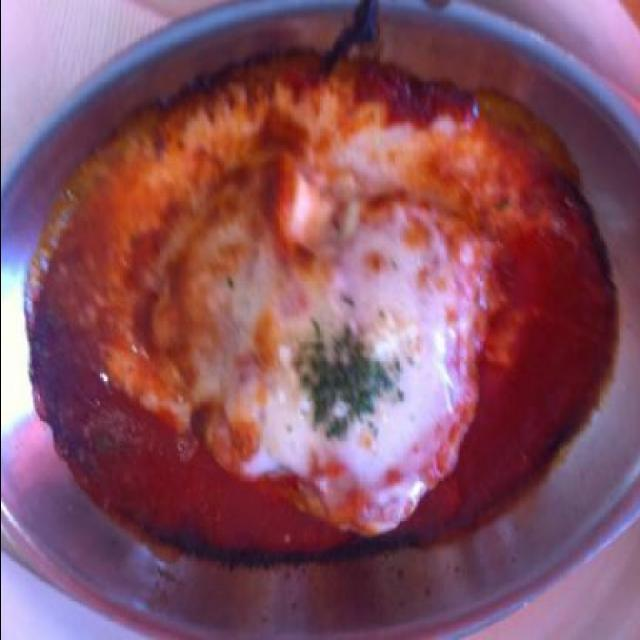Lasagna: (131, 140, 487, 544)
